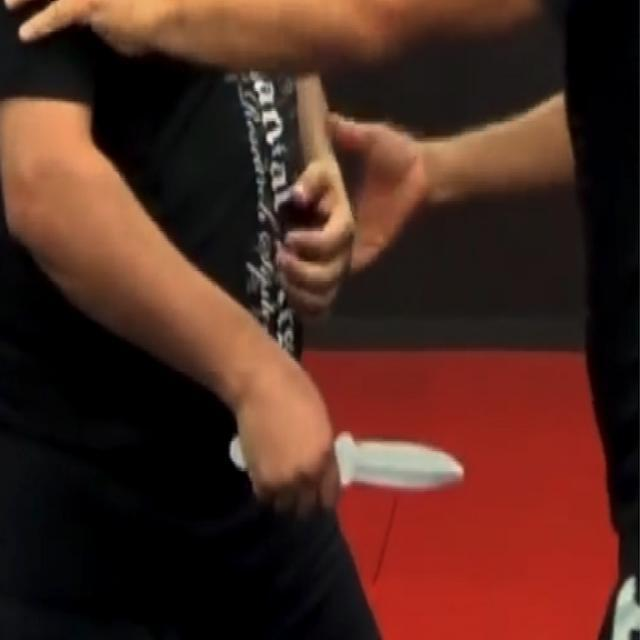suspicion: (4, 4, 472, 532), (338, 422, 466, 497), (228, 435, 248, 471)
